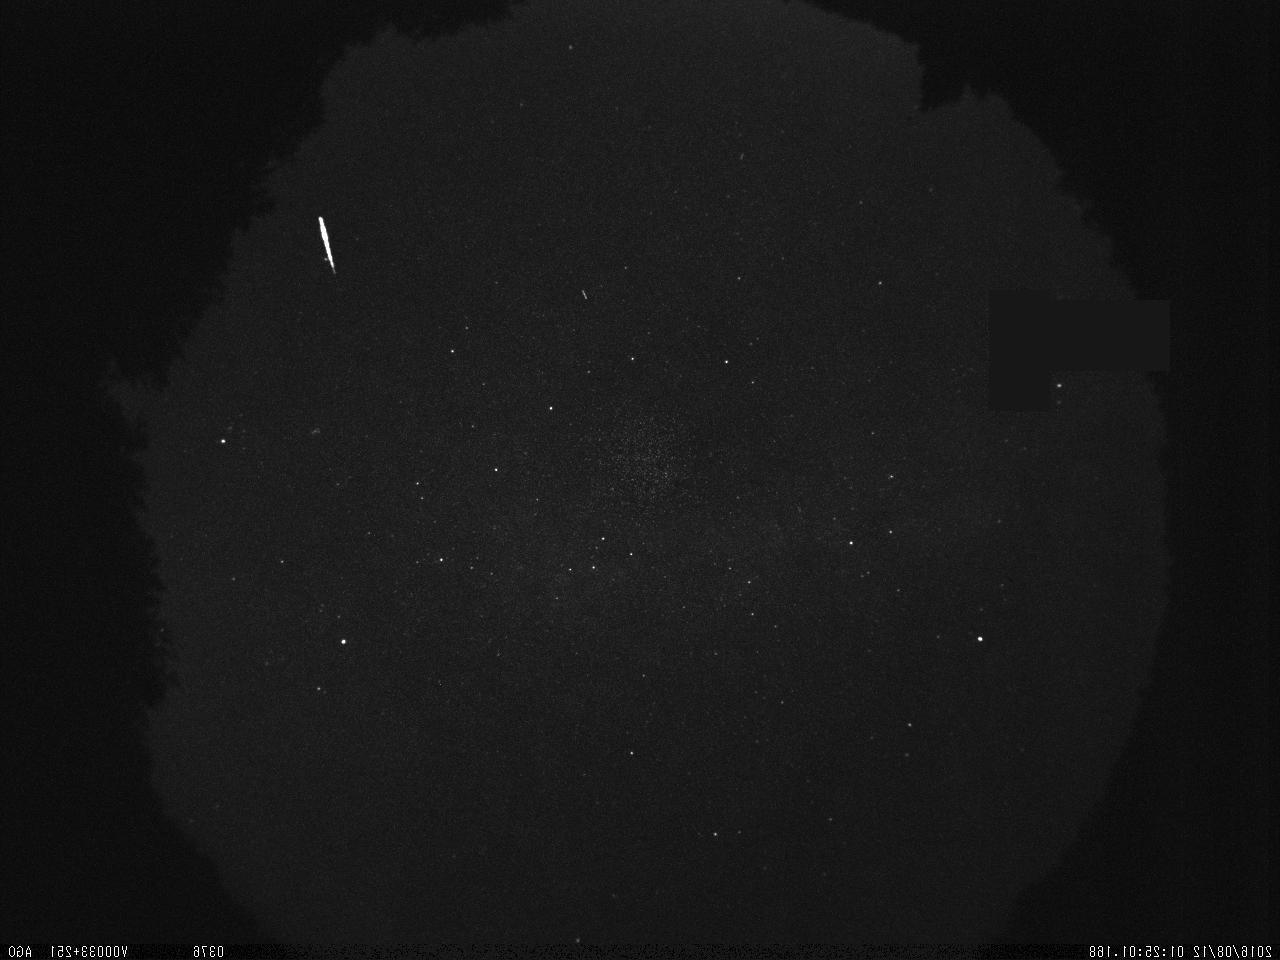meteor: (280, 181, 388, 297)
